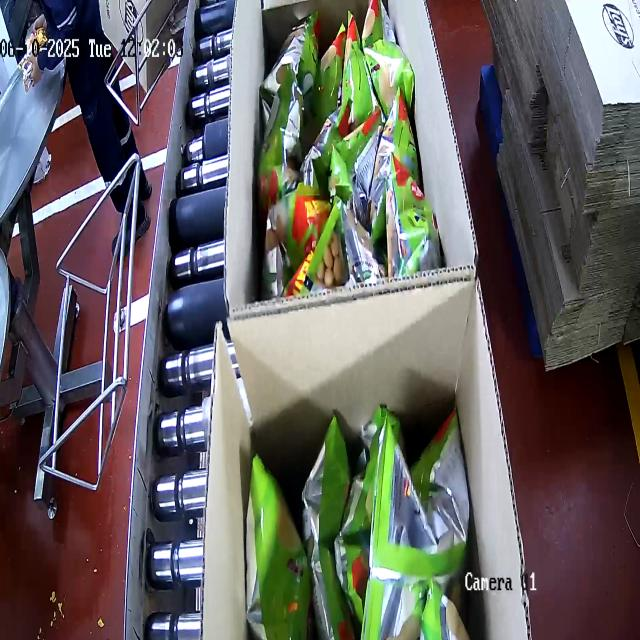YOGURT_HERB: (241, 393, 487, 640), (255, 4, 425, 294)
